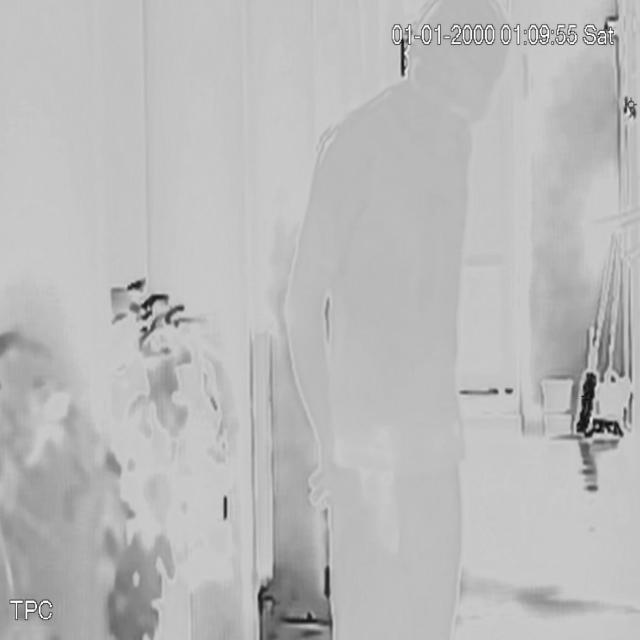Weapon: (329, 417, 418, 575)
